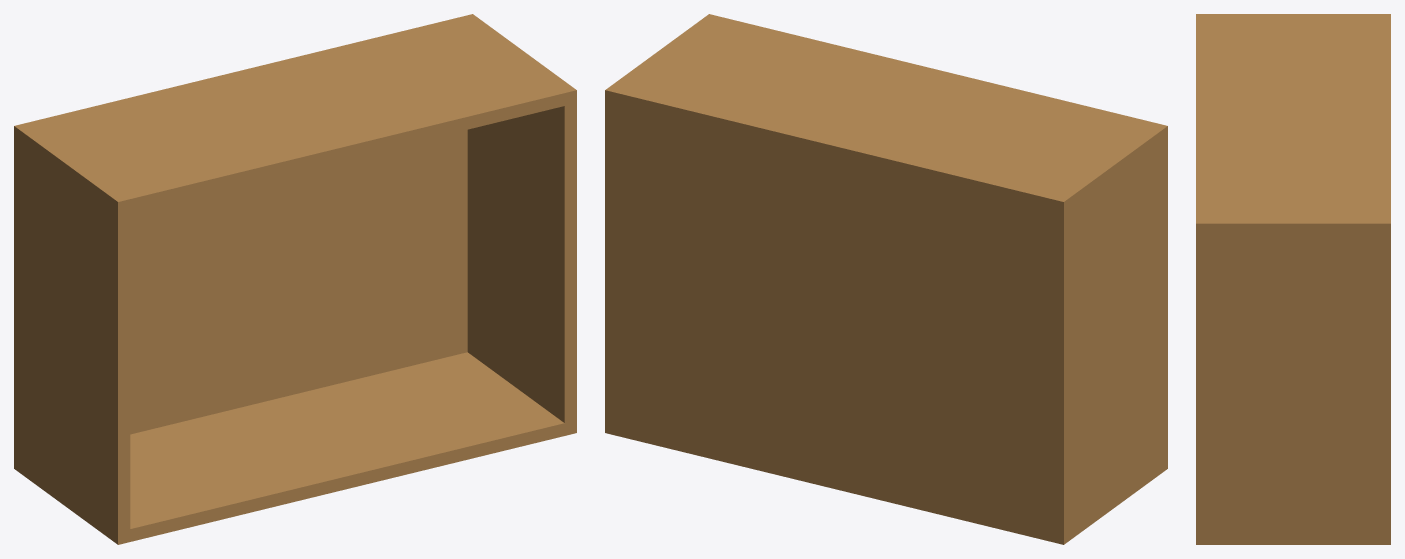
File: tray_semi.obj
The picture shows the model from 3 angles, left to right: view 1: azimuth 30°, elevation 25°; view 2: azimuth 150°, elevation 25°; view 3: azimuth 270°, elevation 25°; orthographic projection. The views are drawn at different scales.
Visible parts, largest first — view 1: carton; view 2: carton; view 3: carton.
Boxes of the visible parts, left/top/right/bottom form: carton: left=14, top=14, right=576, bottom=544; carton: left=605, top=14, right=1167, bottom=544; carton: left=1196, top=14, right=1390, bottom=544.
Bounding box in the file's own units: 0.56 × 0.4 × 0.22.
